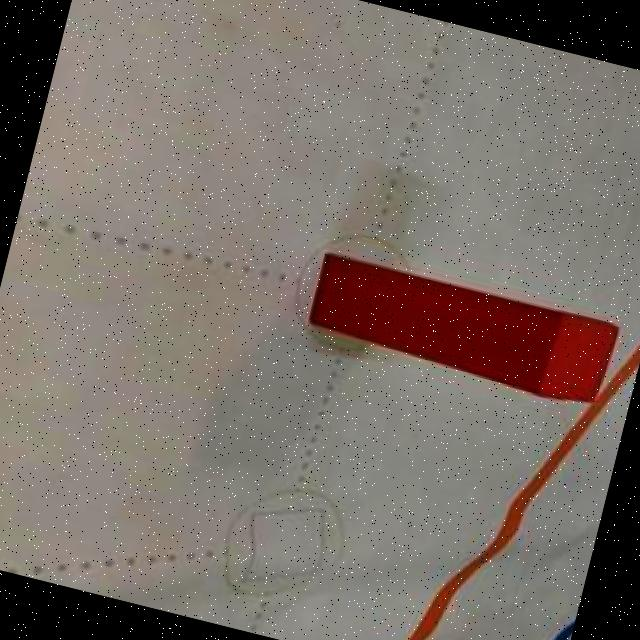redbox: (302, 248, 622, 410)
